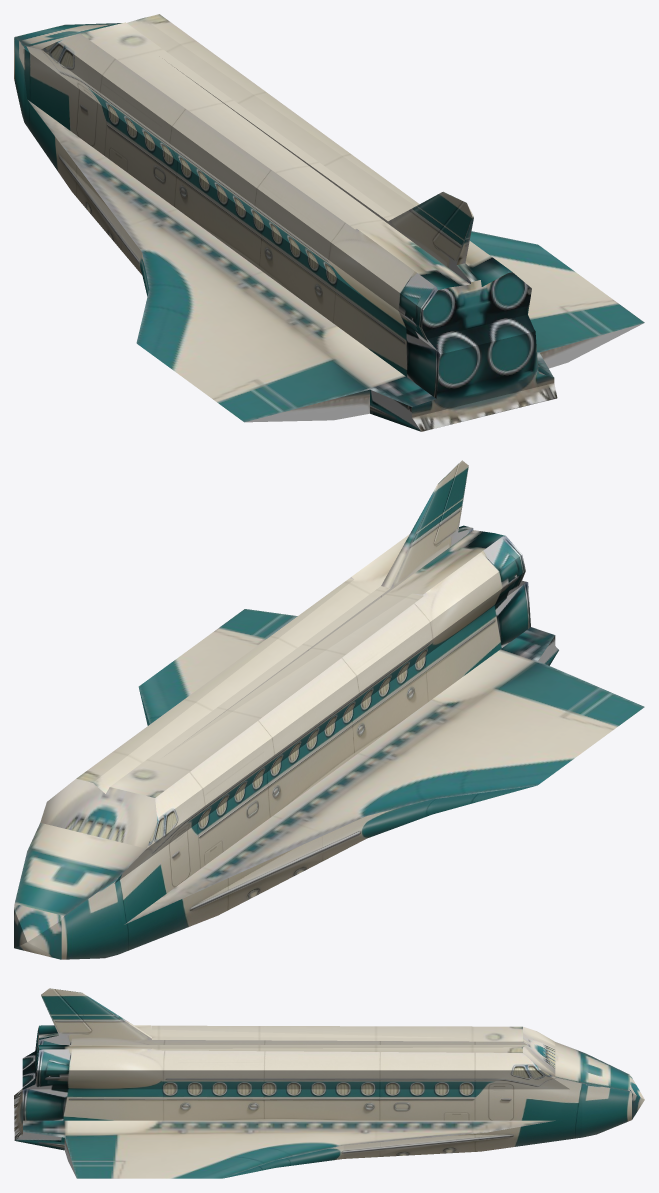
The model's file is passenger_shuttle.glb.
3 views of the same model, one above another, from view 1: azimuth 30°, elevation 25°; view 2: azimuth 150°, elevation 25°; view 3: azimuth 270°, elevation 25° (orthographic). The views are drawn at different scales.
Visible parts, largest first — view 1: passenger_shuttle; view 2: passenger_shuttle; view 3: passenger_shuttle.
Boxes of the visible parts, x1,y1,x2,y2 form: passenger_shuttle: (14,14,644,431); passenger_shuttle: (14,460,644,959); passenger_shuttle: (14,988,644,1178).
Bounding box in the file's own units: 14.99 × 7.98 × 29.97.
Materials: 2 (1 with a texture image).
